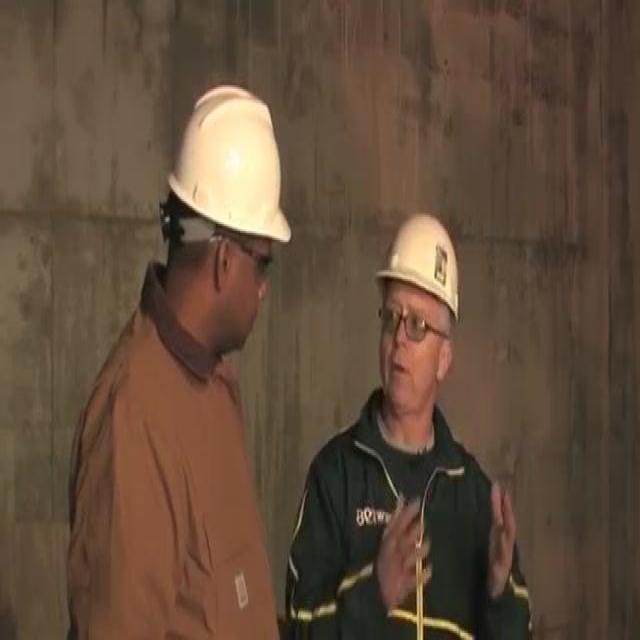Reflective-Jacket: (276, 407, 537, 640)
Safety-Helmet: (155, 71, 301, 263), (364, 196, 478, 346)
